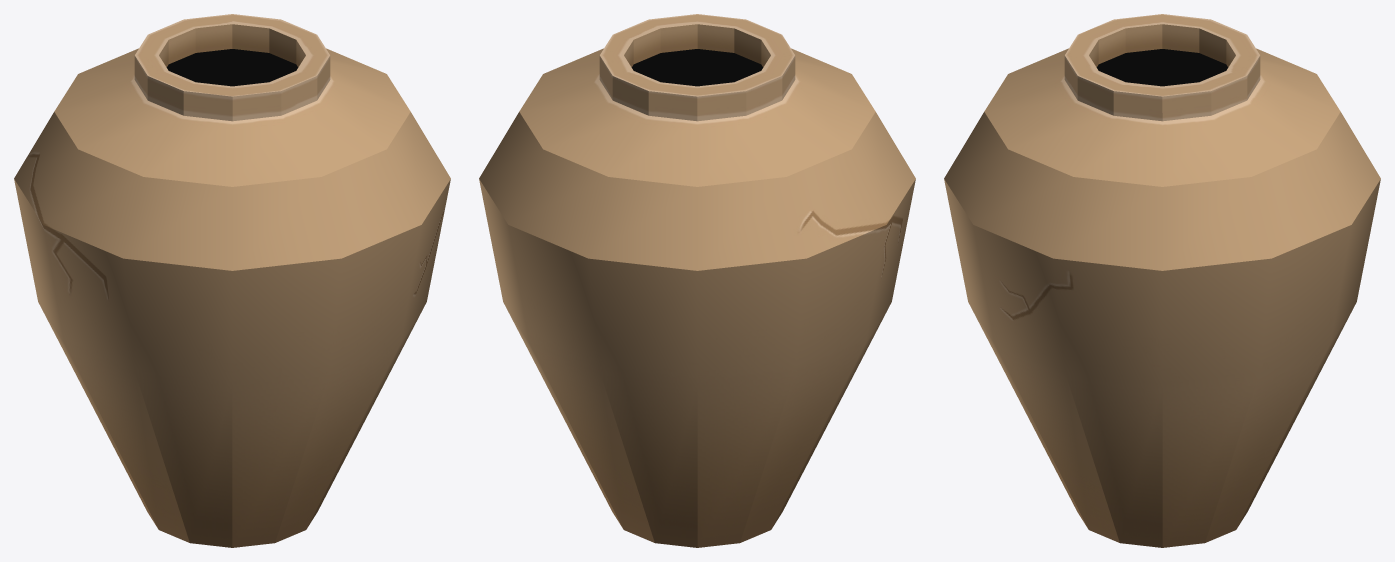
File: Pot_02.FBX
3 views of the same model, side by side, from view 1: azimuth 30°, elevation 25°; view 2: azimuth 150°, elevation 25°; view 3: azimuth 270°, elevation 25° (orthographic).
Visible parts, largest first — view 1: pCylinder1; view 2: pCylinder1; view 3: pCylinder1.
Part boxes in pixels (x1,y1,x2,y2): pCylinder1: (14, 14, 450, 547); pCylinder1: (479, 14, 915, 547); pCylinder1: (944, 14, 1380, 547).
Size of the model in its own units: 112 by 130 by 112.
